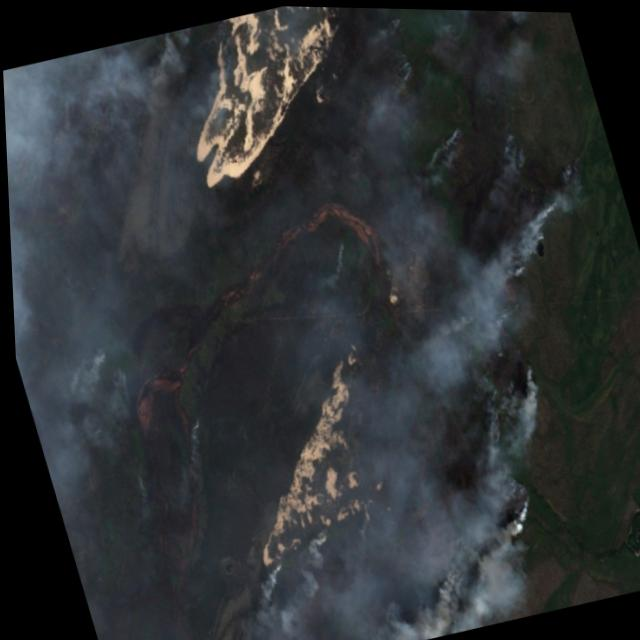fire: (200, 3, 640, 640)
